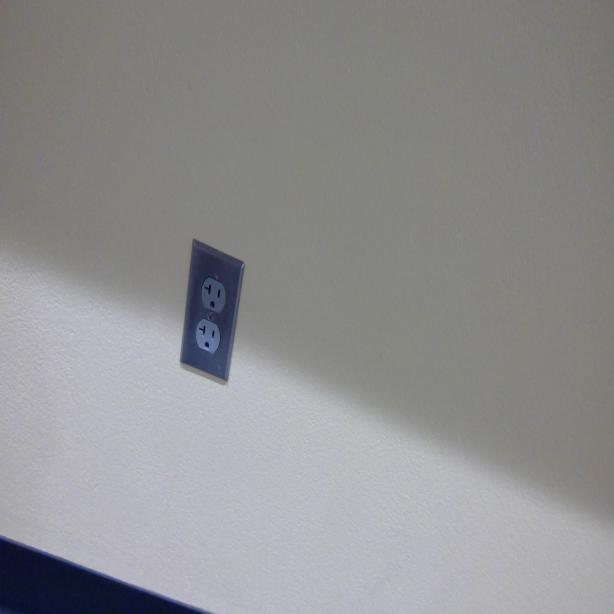typeb: (202, 278, 227, 316), (196, 320, 222, 354)
